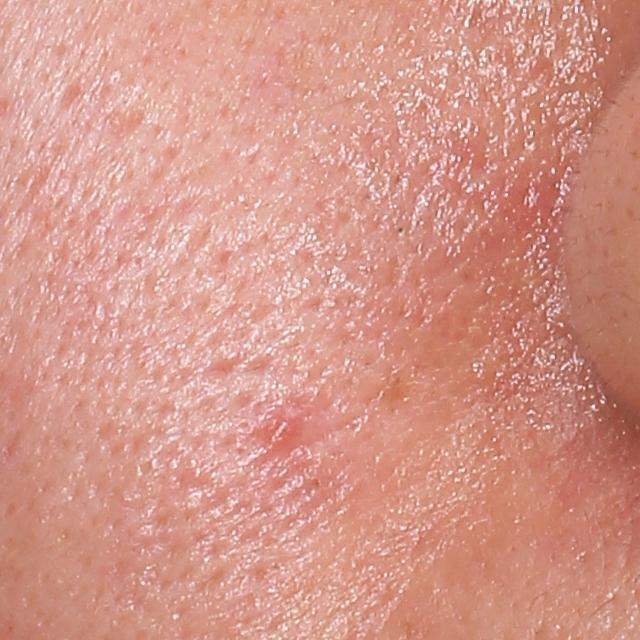atrophic_scar: (104, 104, 150, 141), (57, 78, 82, 111)
papule: (259, 414, 296, 455)
